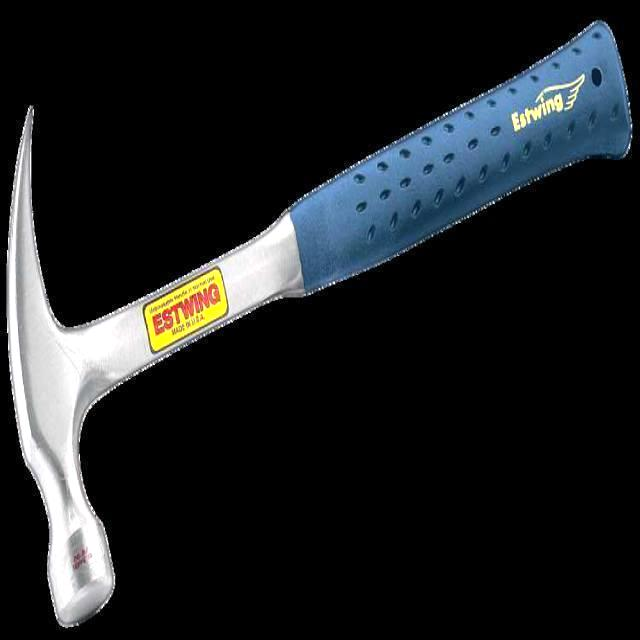hammer: (2, 13, 638, 631)
